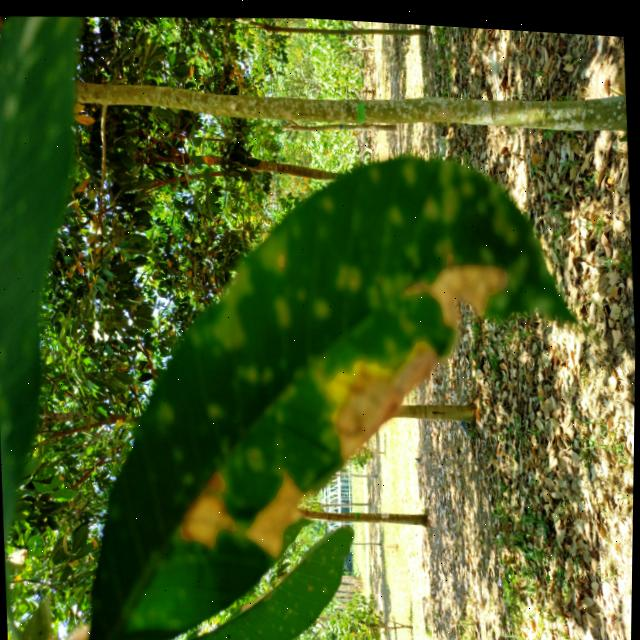Leaf-Blight: (330, 333, 444, 465), (429, 255, 509, 322), (247, 467, 308, 551), (180, 486, 235, 546)
